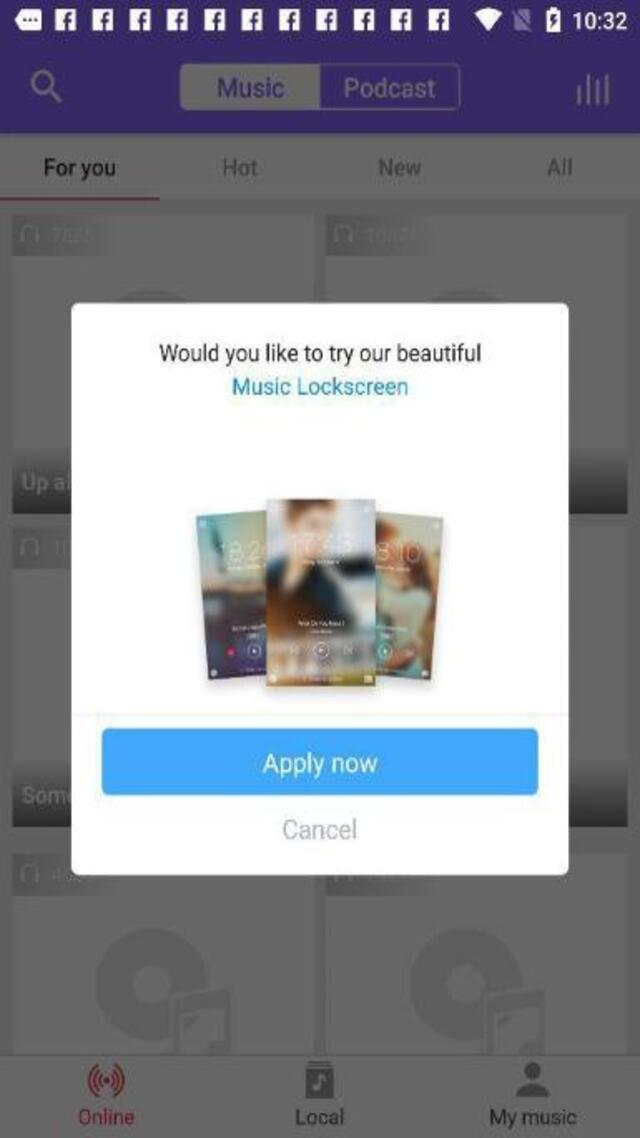Icon: (574, 72, 610, 106), (305, 1060, 333, 1099), (516, 1060, 548, 1094), (29, 70, 61, 104)
Image: (195, 497, 443, 687), (88, 1063, 126, 1099)
Text: (158, 341, 484, 366), (259, 750, 383, 784), (232, 376, 410, 396), (340, 75, 441, 100), (216, 74, 286, 102), (490, 1108, 578, 1129), (282, 817, 356, 840), (42, 158, 114, 181), (79, 1106, 134, 1124), (295, 1106, 343, 1124), (378, 158, 420, 176), (225, 158, 258, 176), (547, 156, 570, 176)
TextButton: (100, 727, 538, 795), (179, 63, 320, 111), (319, 63, 459, 111)
